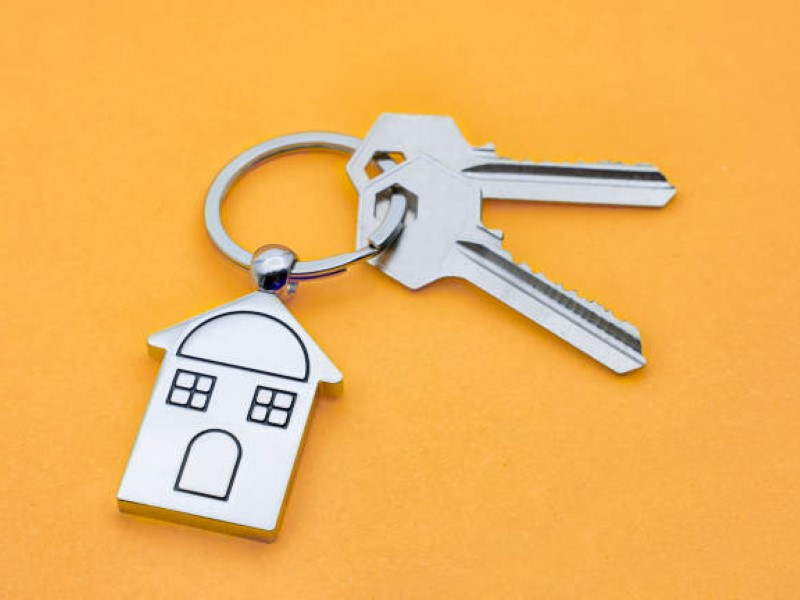key: (340, 104, 678, 380)
